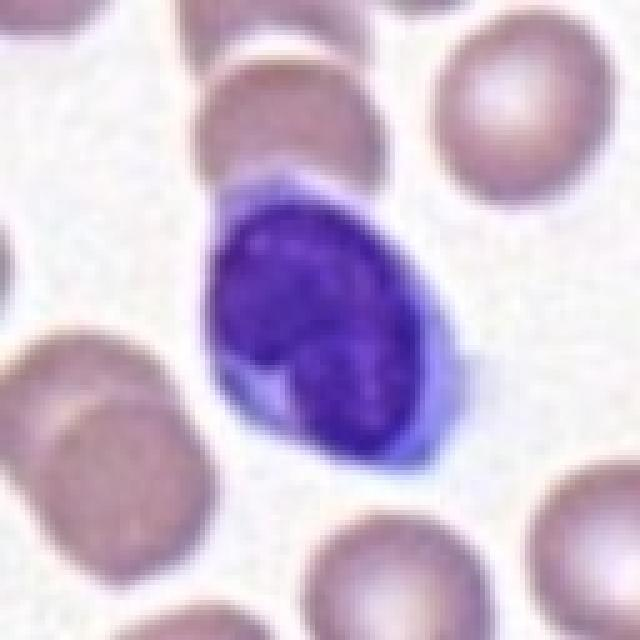lympho: (195, 161, 473, 477)
